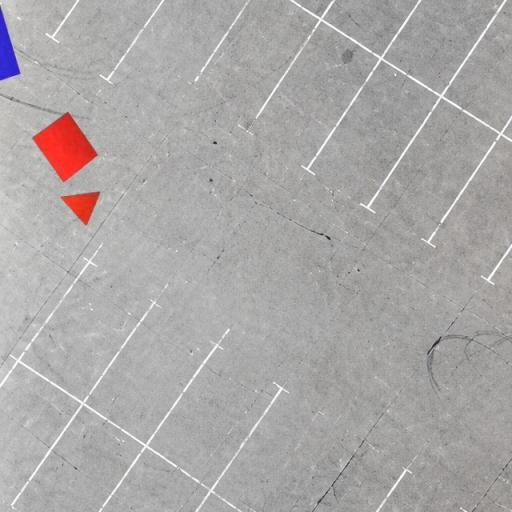RED_SQUARE: (32, 112, 98, 182)
